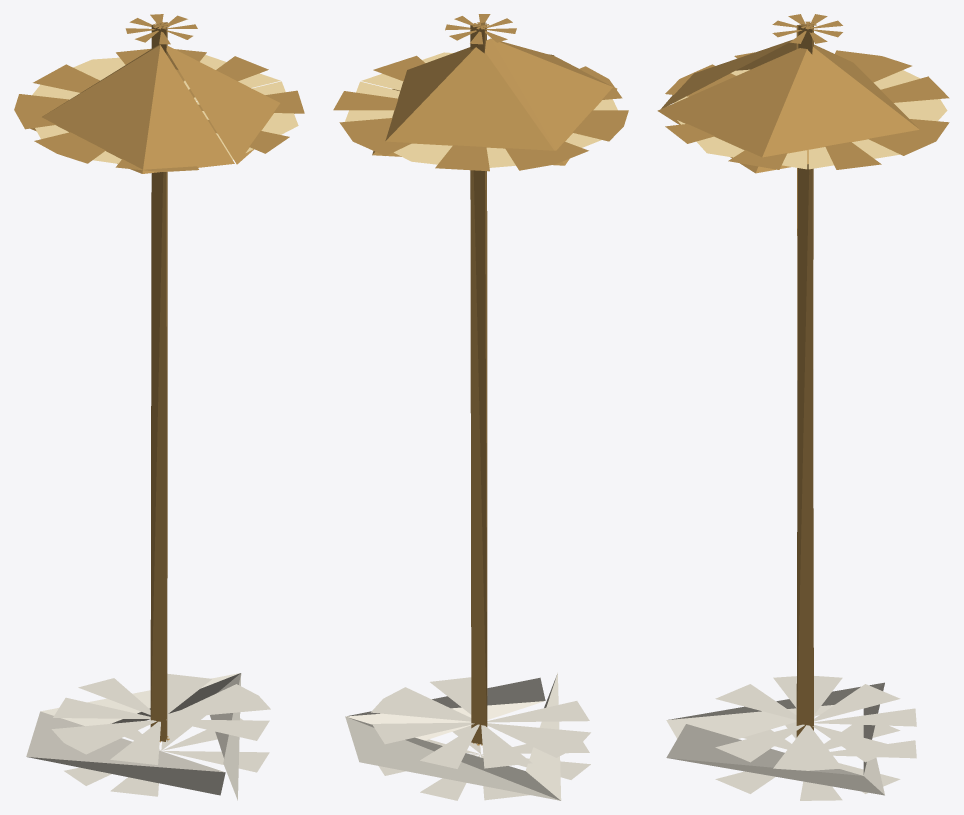
The model's file is good.glb.
The picture shows the model from 3 angles, left to right: view 1: azimuth 30°, elevation 25°; view 2: azimuth 150°, elevation 25°; view 3: azimuth 270°, elevation 25°; orthographic projection.
Visible parts, largest first — view 1: Native component 1, Native component 0, Native component 3; view 2: Native component 1, Native component 0, Native component 3; view 3: Native component 1, Native component 0, Native component 3.
Boxes of the visible parts, x1=… form: Native component 1: x1=14, y1=14, x2=304, y2=742; Native component 0: x1=26, y1=673, x2=270, y2=800; Native component 3: x1=32, y1=55, x2=298, y2=163; Native component 1: x1=333, y1=14, x2=628, y2=745; Native component 0: x1=345, y1=672, x2=590, y2=800; Native component 3: x1=345, y1=52, x2=617, y2=167; Native component 1: x1=657, y1=14, x2=949, y2=737; Native component 0: x1=666, y1=676, x2=916, y2=800; Native component 3: x1=673, y1=69, x2=947, y2=169.
Size of the model in its own units: 0.7438 by 2.06 by 0.7503.
